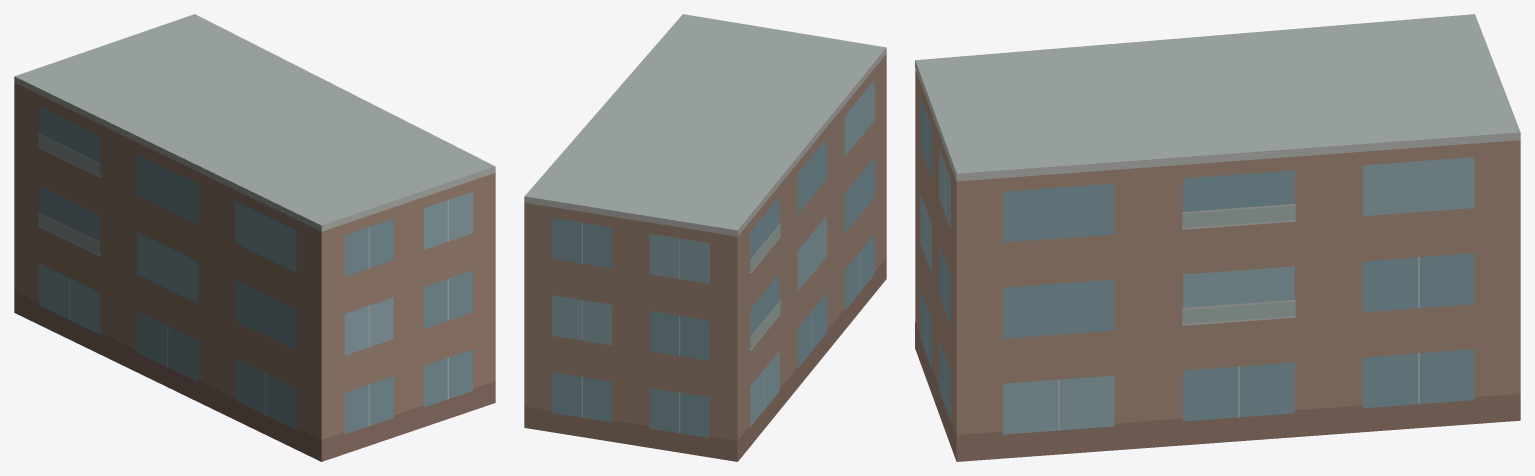
The model's file is survey-upis-32720367.glb.
The picture shows the model from 3 angles, left to right: view 1: azimuth 30°, elevation 25°; view 2: azimuth 150°, elevation 25°; view 3: azimuth 270°, elevation 25°; orthographic projection. The views are drawn at different scales.
Visible parts, largest first — view 1: survey-upis-32720367.tmp; view 2: survey-upis-32720367.tmp; view 3: survey-upis-32720367.tmp.
Boxes of the visible parts, x1,y1,x2,y2 form: survey-upis-32720367.tmp: (14, 14, 495, 461); survey-upis-32720367.tmp: (524, 14, 886, 461); survey-upis-32720367.tmp: (915, 14, 1520, 461).
Size of the model in its own units: 10.89 by 9.15 by 17.44.
